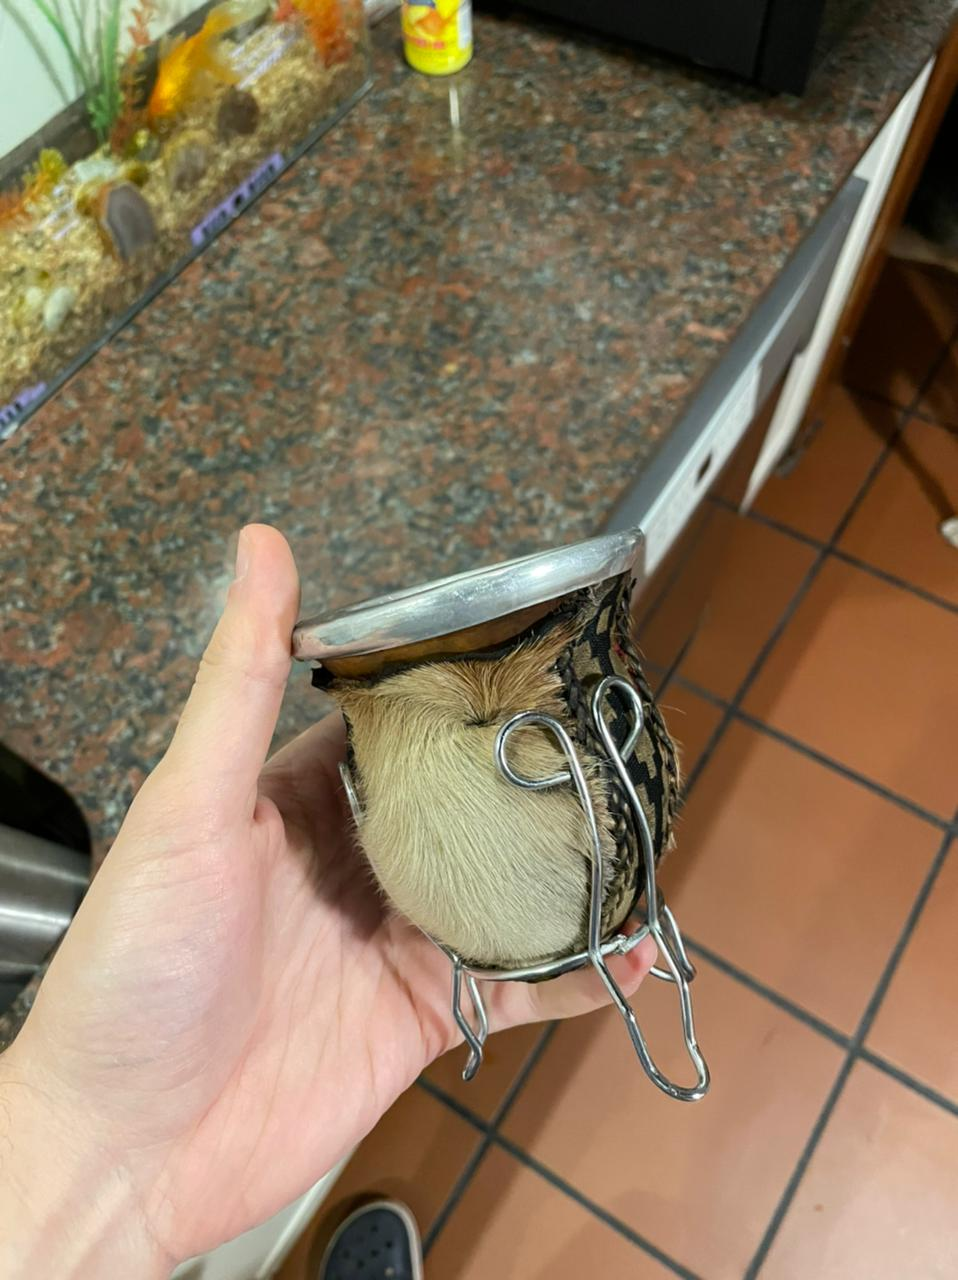madera: (282, 517, 735, 1116)
mate: (280, 515, 733, 1114)
